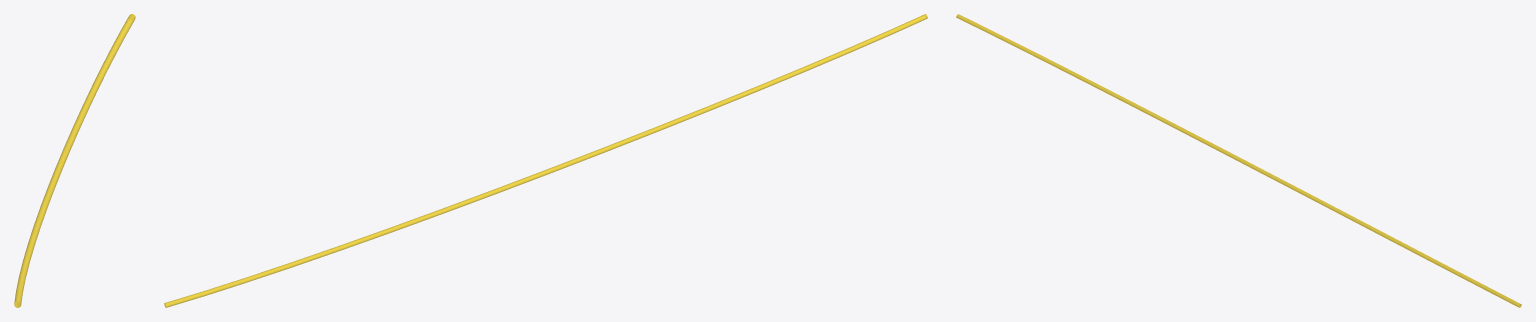
File: Event_84804159_track_34.fbx
The picture shows the model from 3 angles, left to right: view 1: azimuth 90°, elevation 25°; view 2: azimuth 210°, elevation 25°; view 3: azimuth 330°, elevation 25°; orthographic projection. The views are drawn at different scales.
Visible parts, largest first — view 1: Model; view 2: Model; view 3: Model.
Boxes of the visible parts, x1=… form: Model: x1=14, y1=14, x2=135, y2=307; Model: x1=164, y1=14, x2=927, y2=307; Model: x1=956, y1=14, x2=1521, y2=307.
Bounding box in the file's own units: 6.48 × 1.28 × 0.6841.
